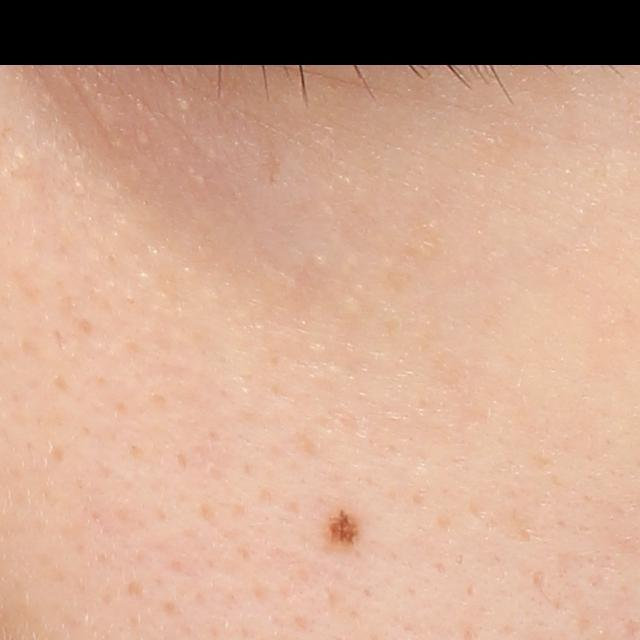nevus: (323, 504, 367, 554)
